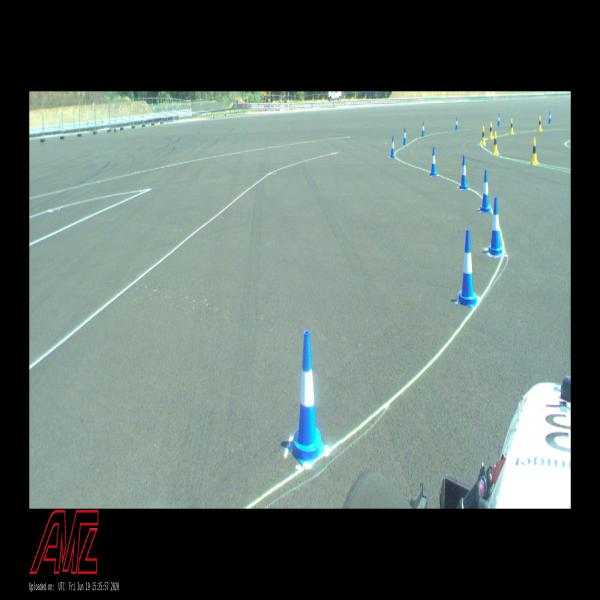blue_cone: (289, 332, 325, 467), (457, 230, 478, 306), (488, 198, 502, 254), (481, 170, 490, 212), (460, 155, 468, 189), (430, 147, 437, 175), (391, 136, 395, 158), (403, 128, 407, 145), (455, 117, 458, 130), (422, 122, 424, 136), (498, 113, 500, 126), (549, 112, 551, 123)
yellow_cone: (531, 138, 538, 164), (493, 132, 498, 154), (481, 126, 486, 145), (510, 118, 514, 134), (489, 123, 493, 138), (538, 116, 542, 131)
